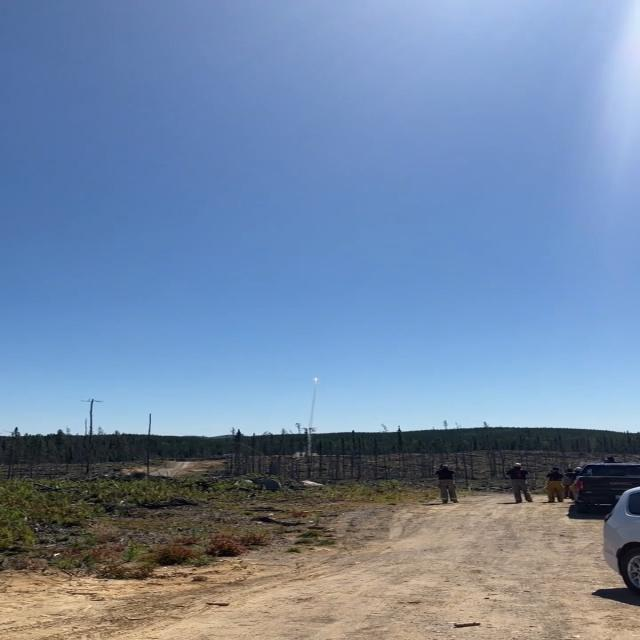Rocket: (315, 376, 319, 378)
